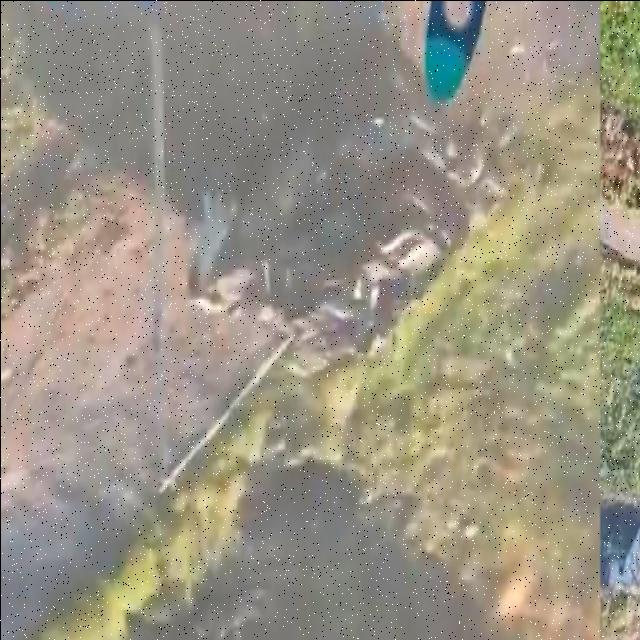TANK: (154, 51, 505, 498)
